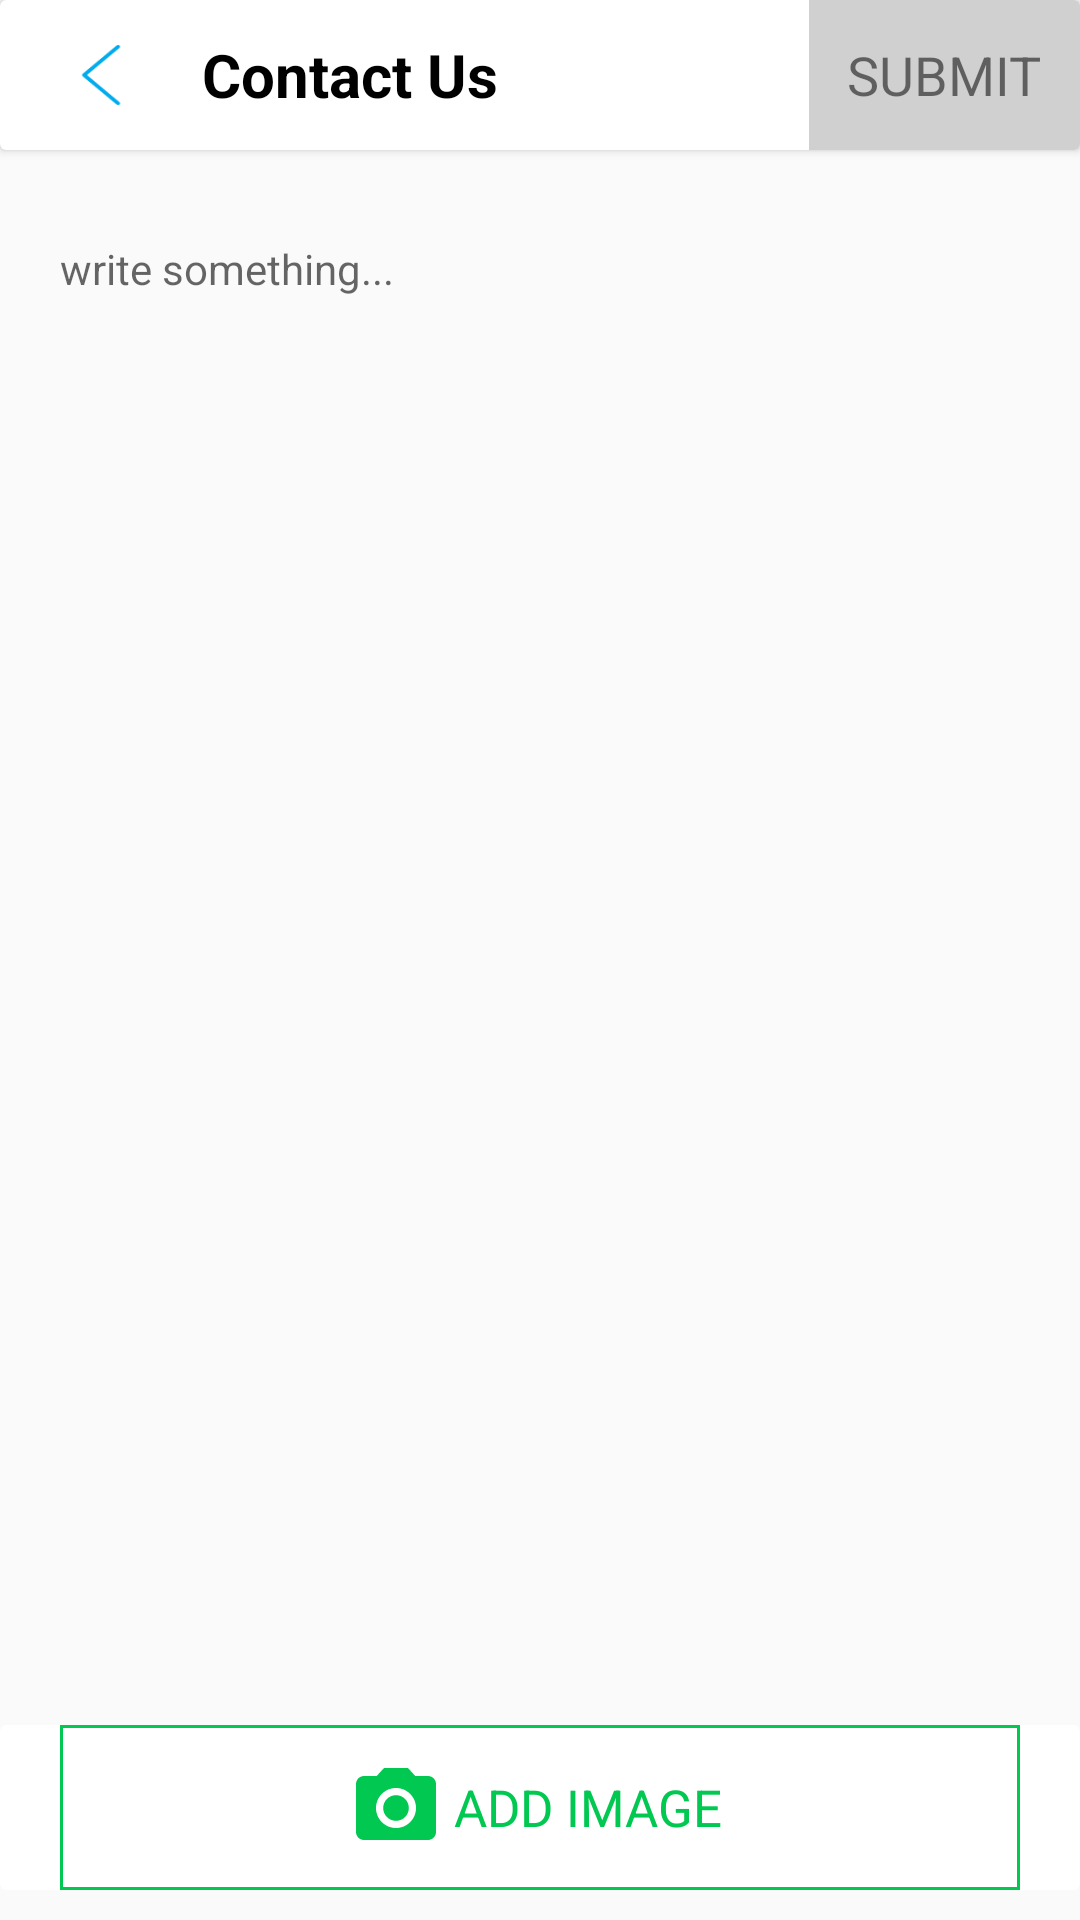

Icons on this 1080x1920 Android screen, each with the point to tap as point (x, y):
photo camera: point (396, 1804)
